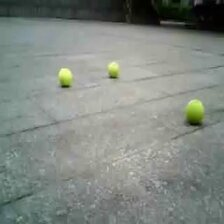tennis: (184, 100, 204, 123), (58, 67, 71, 84), (107, 62, 119, 77)
